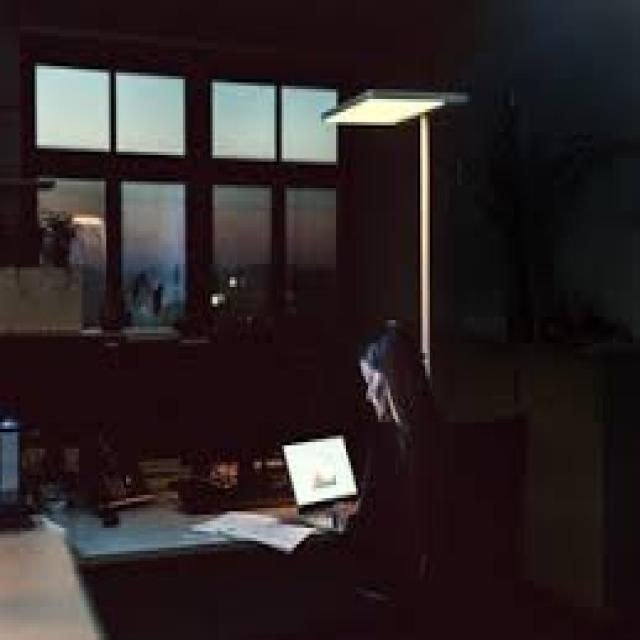chair: (341, 388, 551, 640)
